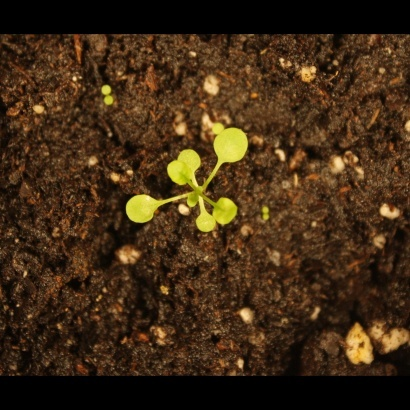leaf: (211, 126, 254, 168), (125, 192, 161, 229), (163, 156, 192, 189), (212, 196, 240, 228), (177, 147, 205, 177), (196, 208, 220, 239), (94, 94, 117, 117), (95, 72, 118, 95), (204, 111, 227, 134), (185, 186, 208, 209)
